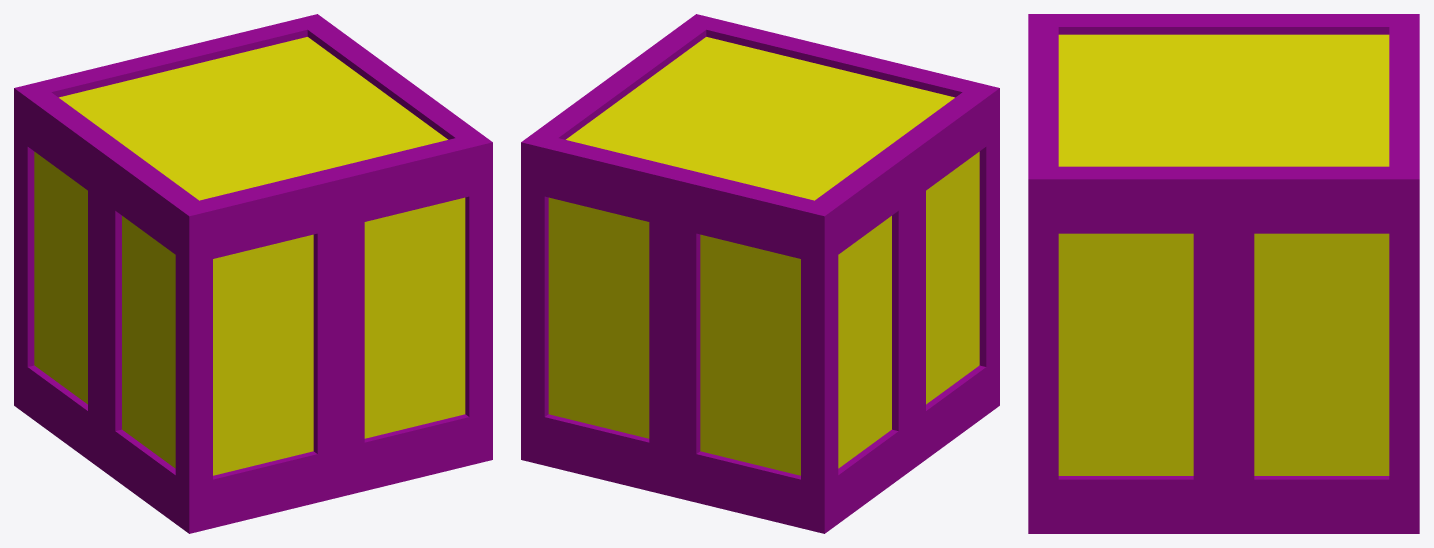
Rendered from Crate_1.fbx.
3 views of the same model, side by side, from view 1: azimuth 30°, elevation 25°; view 2: azimuth 150°, elevation 25°; view 3: azimuth 270°, elevation 25° (orthographic). The views are drawn at different scales.
Parts seen in each view (by area): view 1: pCube1; view 2: pCube1; view 3: pCube1.
Boxes of the visible parts, left/top/right/bottom form: pCube1: left=14, top=14, right=492, bottom=533; pCube1: left=521, top=14, right=999, bottom=533; pCube1: left=1028, top=14, right=1419, bottom=533.
Size of the model in its own units: 9.01 by 9.01 by 9.01.
